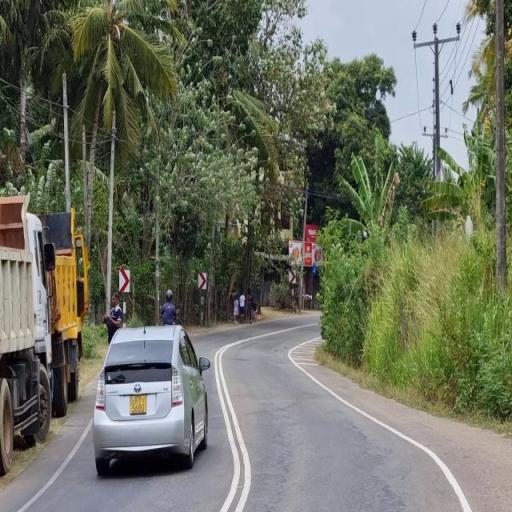double_white_line: (212, 338, 254, 512)
